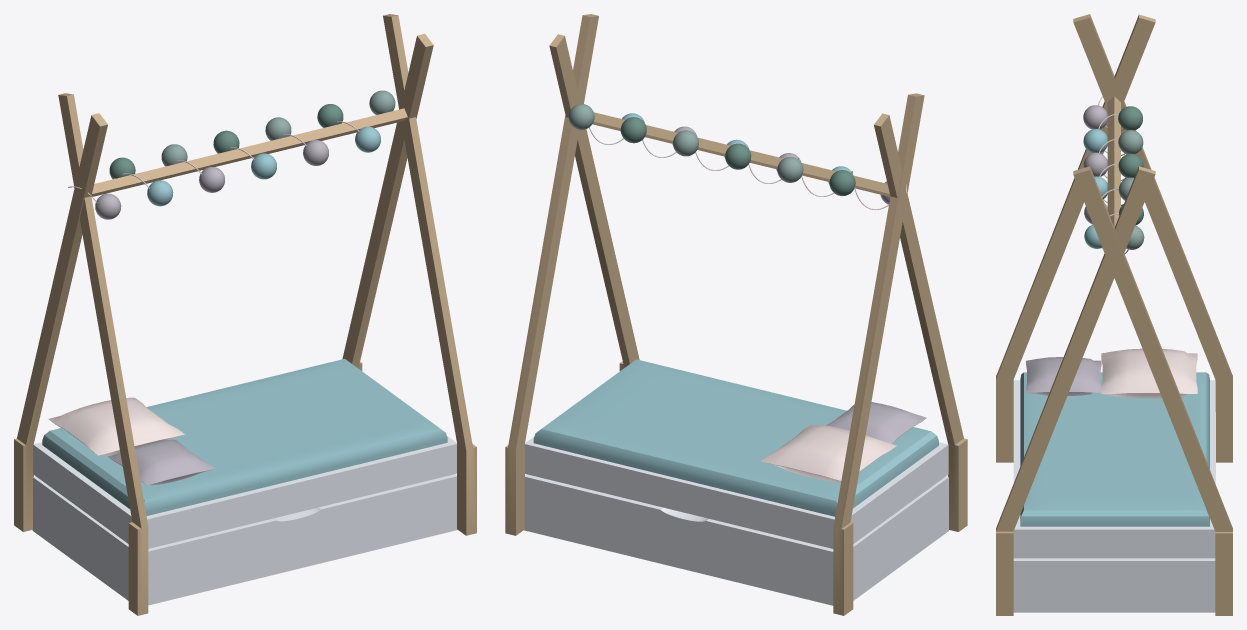
File: Furn2_bed_color3_joined.fbx
3 views of the same model, side by side, from view 1: azimuth 30°, elevation 25°; view 2: azimuth 150°, elevation 25°; view 3: azimuth 270°, elevation 25° (orthographic). The views are drawn at different scales.
Visible parts, largest first — view 1: Сфера.002; view 2: Сфера.002; view 3: Сфера.002.
Part boxes in pixels (bbox=[...]): Сфера.002: bbox=[14, 14, 476, 615]; Сфера.002: bbox=[505, 14, 967, 615]; Сфера.002: bbox=[996, 14, 1232, 615].
Size of the model in its own units: 364 by 471 by 227.
